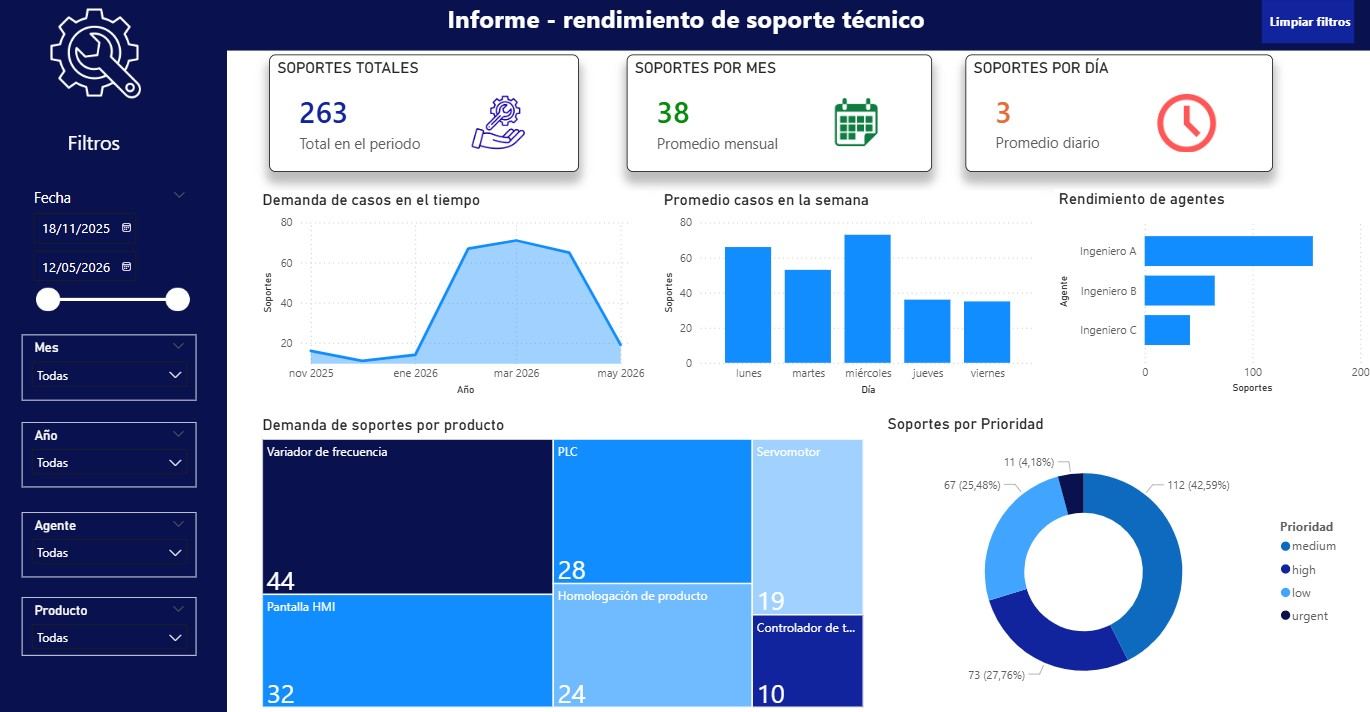

The dashboard page shown, as its layout file describes it:
{"tool":"powerbi","page":{"name":"Página 1","canvas":[1500,790],"ordinal":0},"visuals":[{"type":"textbox","box":[0,0,1500.3,58.6],"z":0},{"type":"cardVisual","title":"SOPORTES TOTALES","fields":{"Data":["Calendario.SoportesTotales"]},"box":[295.7,62.7,337.9,128.1],"z":1000},{"type":"cardVisual","title":"SOPORTES POR MES","fields":{"Data":["Calendario.Prom_soportesmes"]},"box":[685.4,62.7,332.5,128.1],"z":2000},{"type":"cardVisual","title":"SOPORTES POR DÍA","fields":{"Data":["Calendario.Prom_soportesdia"]},"box":[1054.7,62.7,335.2,128.1],"z":3000},{"type":"shape","box":[0,1.4,249.4,789],"z":4000},{"type":"areaChart","title":"Demanda de casos en el tiempo","fields":{"Y":["Calendario.SoportesTotales"],"Category":["Calendario.FechaMes.Variación.Jerarquía de fechas.Año","Calendario.FechaMes.Variación.Jerarquía de fechas.Mes"]},"box":[283.4,211.2,426.5,227.6],"z":5000},{"type":"clusteredBarChart","title":"Rendimiento de agentes","fields":{"Category":["Detalles.Agente"],"Y":["Calendario.SoportesTotales"]},"box":[1151.4,209.8,348.8,227.6],"z":6000},{"type":"clusteredColumnChart","title":"Promedio casos en la semana","fields":{"Category":["Calendario.DiaSemana"],"Y":["Calendario.SoportesTotales"]},"box":[720.8,211.2,415.6,227.6],"z":7000},{"type":"treemap","fields":{"Group":["Detalles.Producto"],"Values":["Calendario.SoportesTotales"]},"box":[283.4,456.5,665,322.9],"z":8000},{"type":"slicer","fields":{"Values":["Calendario.Fecha"]},"box":[26.2,201.1,190.8,155.3],"z":9000},{"type":"slicer","fields":{"Values":["Calendario.Mes"]},"box":[26.2,367.4,190.8,72.2],"z":10000},{"type":"slicer","fields":{"Values":["Detalles.Agente"]},"box":[26.2,560.9,190.8,70.9],"z":11000},{"type":"slicer","fields":{"Values":["Calendario.Año"]},"box":[26.2,462.8,190.8,70.9],"z":12000},{"type":"slicer","fields":{"Values":["Detalles.Producto"]},"box":[26.2,653.5,190.8,64],"z":13000},{"type":"actionButton","title":"Limpiar filtros","box":[1377.6,0,100.8,50.4],"z":14000},{"type":"textbox","box":[71.1,138.4,73.6,39.5],"z":15000},{"type":"donutChart","fields":{"Category":["Detalles.Prioridad"],"Y":["CountNonNull(Detalles.Ticket)"]},"box":[964.8,455.1,513.7,322.9],"z":16000},{"type":"image","box":[8.2,6.8,197.6,110.4],"z":17000}]}

Visuals, with their boxes in screenshot pixels (x1, y1, x2, y2), scaled from the page's 1500x790 canvas onto the 1370x712 screenshot:
textbox: detection(0, 0, 1369, 53)
"SOPORTES TOTALES" cardVisual: detection(270, 57, 579, 172)
"SOPORTES POR MES" cardVisual: detection(626, 57, 930, 172)
"SOPORTES POR DÍA" cardVisual: detection(963, 57, 1269, 172)
shape: detection(0, 1, 228, 711)
"Demanda de casos en el tiempo" areaChart: detection(259, 190, 648, 395)
"Rendimiento de agentes" clusteredBarChart: detection(1052, 189, 1369, 394)
"Promedio casos en la semana" clusteredColumnChart: detection(658, 190, 1038, 395)
treemap - Detalles.Producto x Calendario.SoportesTotales: detection(259, 411, 866, 702)
slicer - Calendario.Fecha: detection(24, 181, 198, 321)
slicer - Calendario.Mes: detection(24, 331, 198, 396)
slicer - Detalles.Agente: detection(24, 506, 198, 569)
slicer - Calendario.Año: detection(24, 417, 198, 481)
slicer - Detalles.Producto: detection(24, 589, 198, 647)
"Limpiar filtros" actionButton: detection(1258, 0, 1350, 45)
textbox: detection(65, 125, 132, 160)
donutChart - Detalles.Prioridad x CountNonNull(Detalles.Ticket): detection(881, 410, 1350, 701)
image: detection(7, 6, 188, 106)
